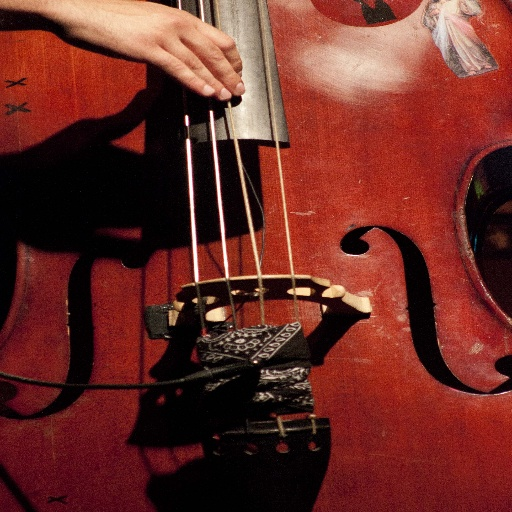hand: (41, 12, 266, 104)
